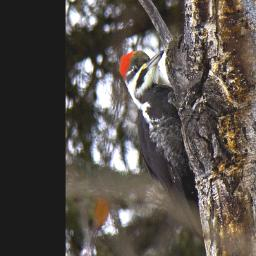Woodpecker: (116, 47, 198, 215)
